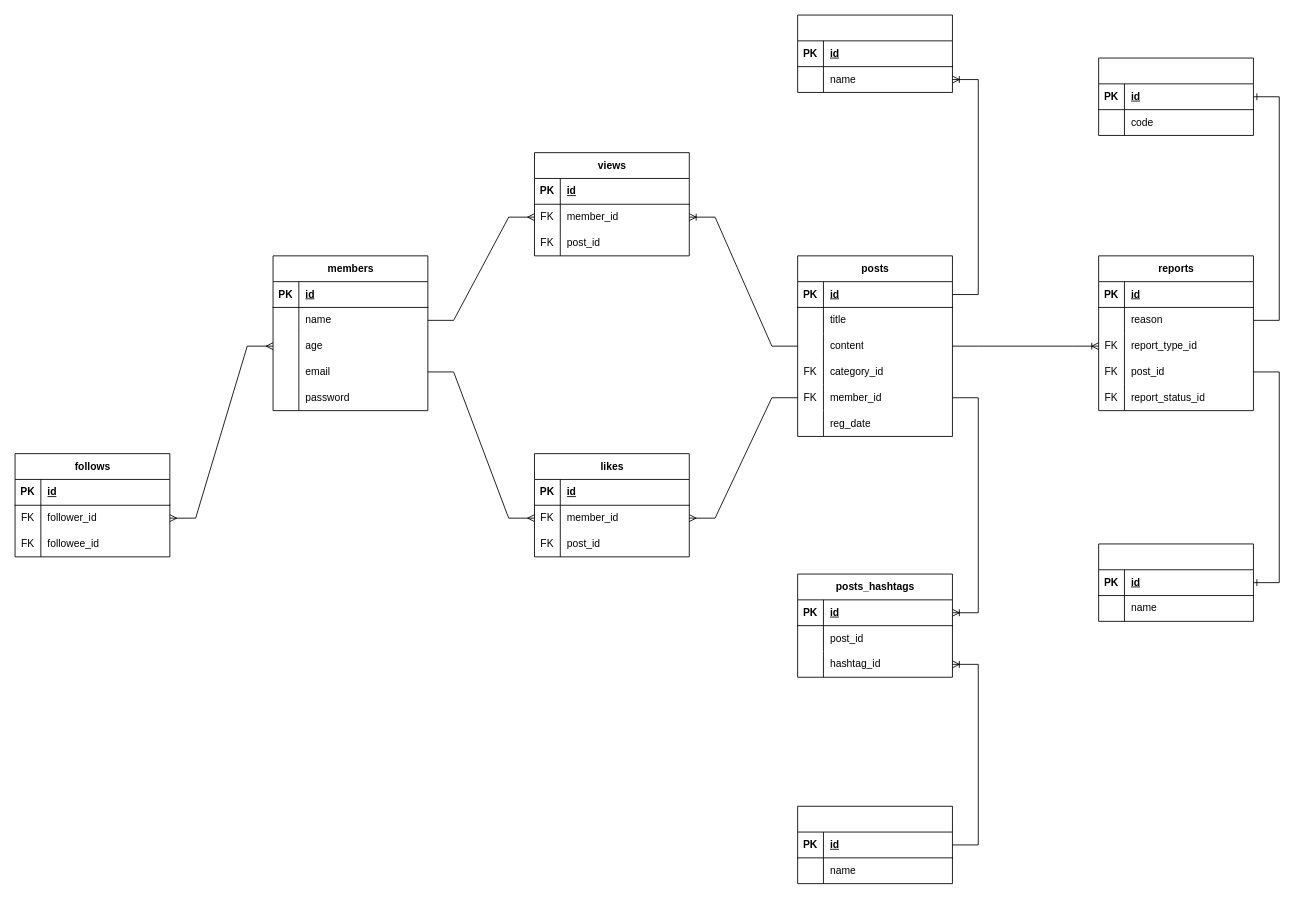
This 1301x899 diagram has some shape labels left out. Here are the shapes that lost their labels. From the top down, the box of each, then its label:
(797, 14, 952, 92): categories
(1098, 57, 1253, 135): report_status
(1098, 543, 1253, 621): report_type
(797, 805, 952, 884): hashtags
